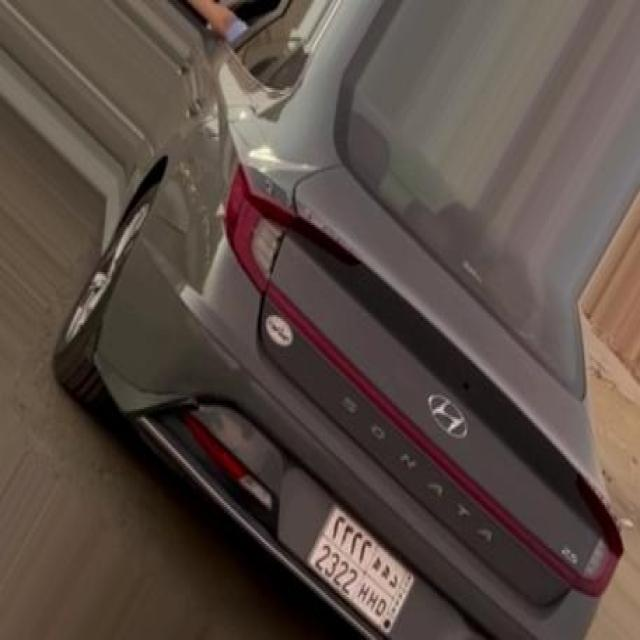Car-plate: (301, 501, 418, 640)
